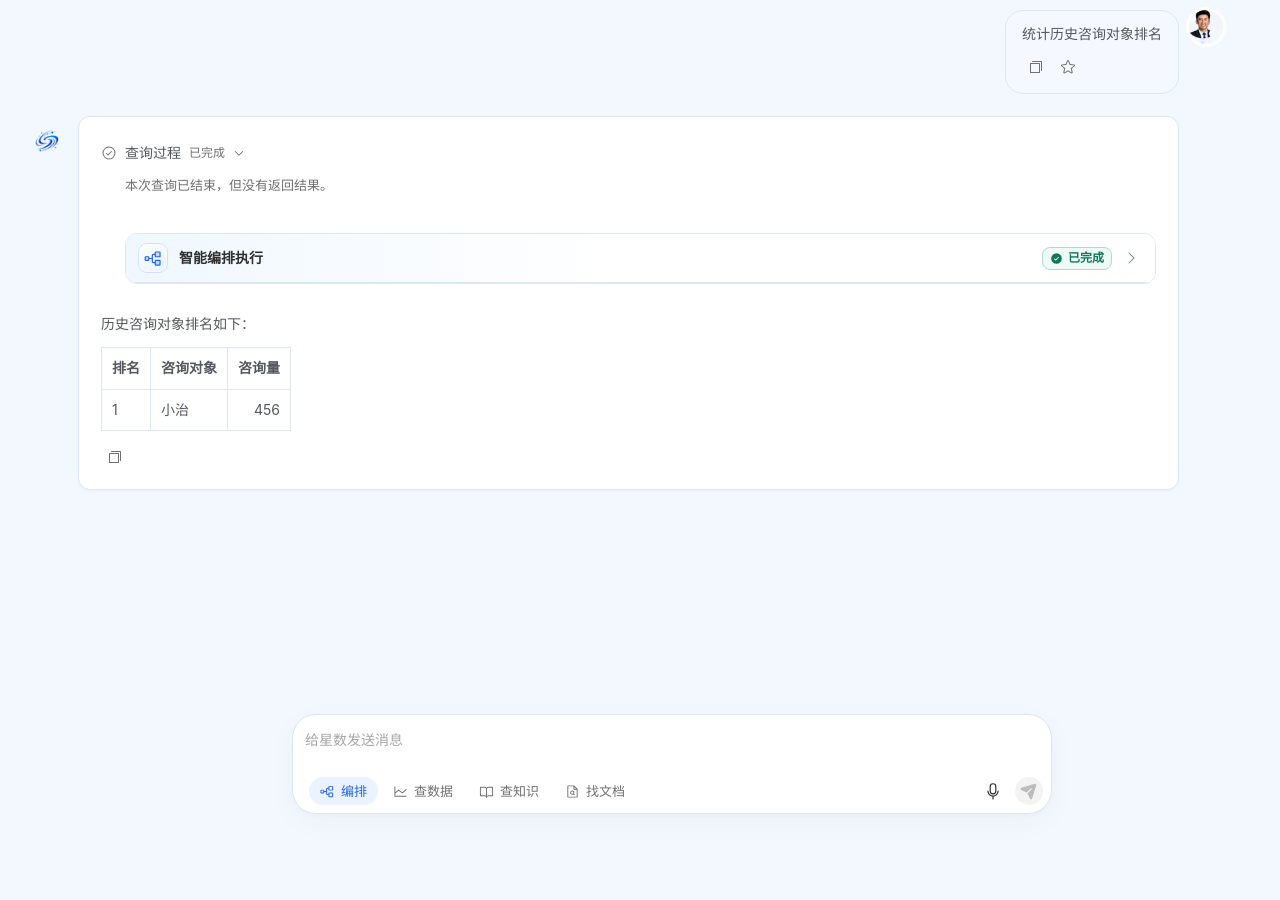
Test: workflow page actions › reruns a single historical ask before favoriting when persisted queries are incomplete
Click the button named "收藏问数". click: (1068, 67)
box: [1054, 53, 1082, 81]
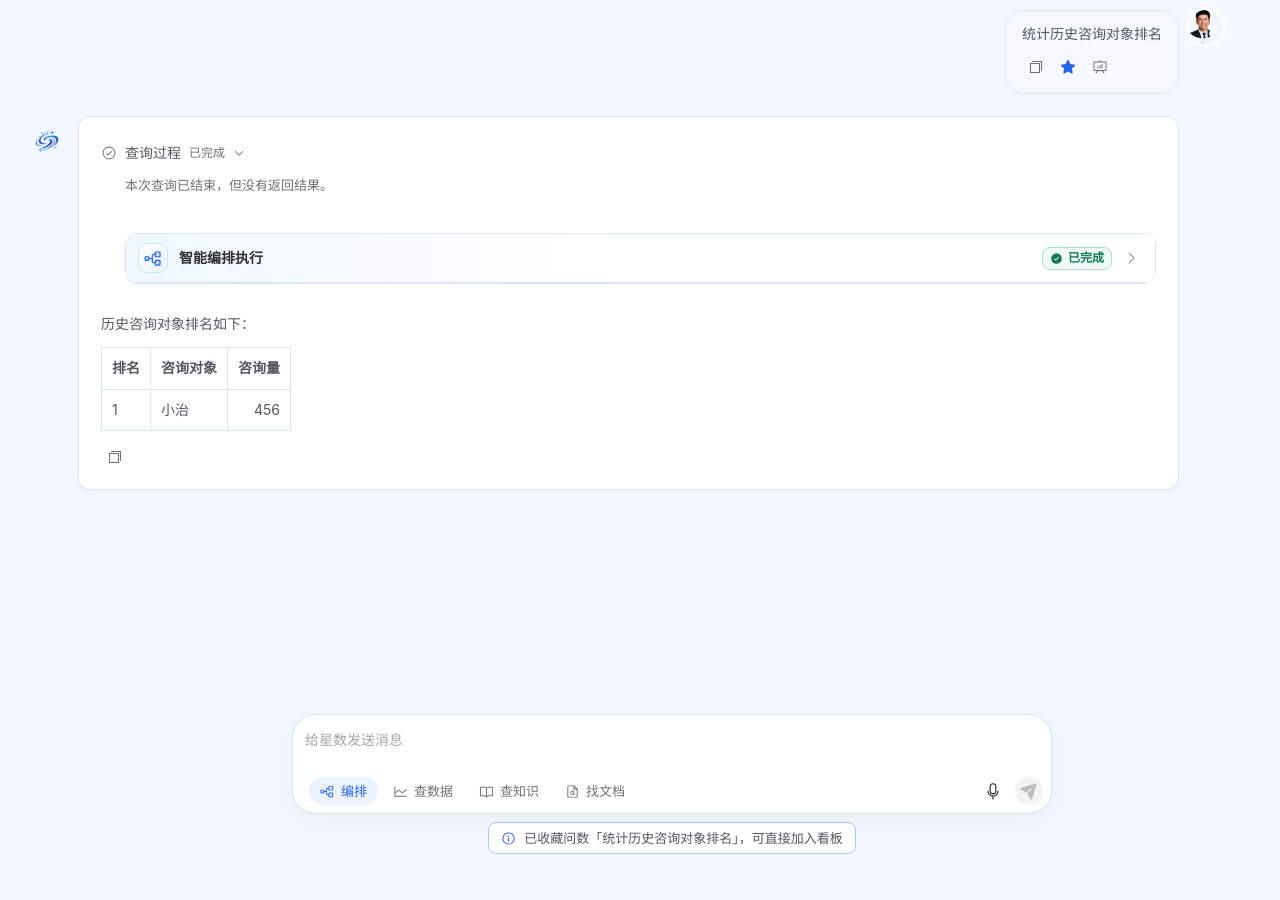
Check: the button named "已收藏问数" is disabled, box [1054, 53, 1082, 81]
